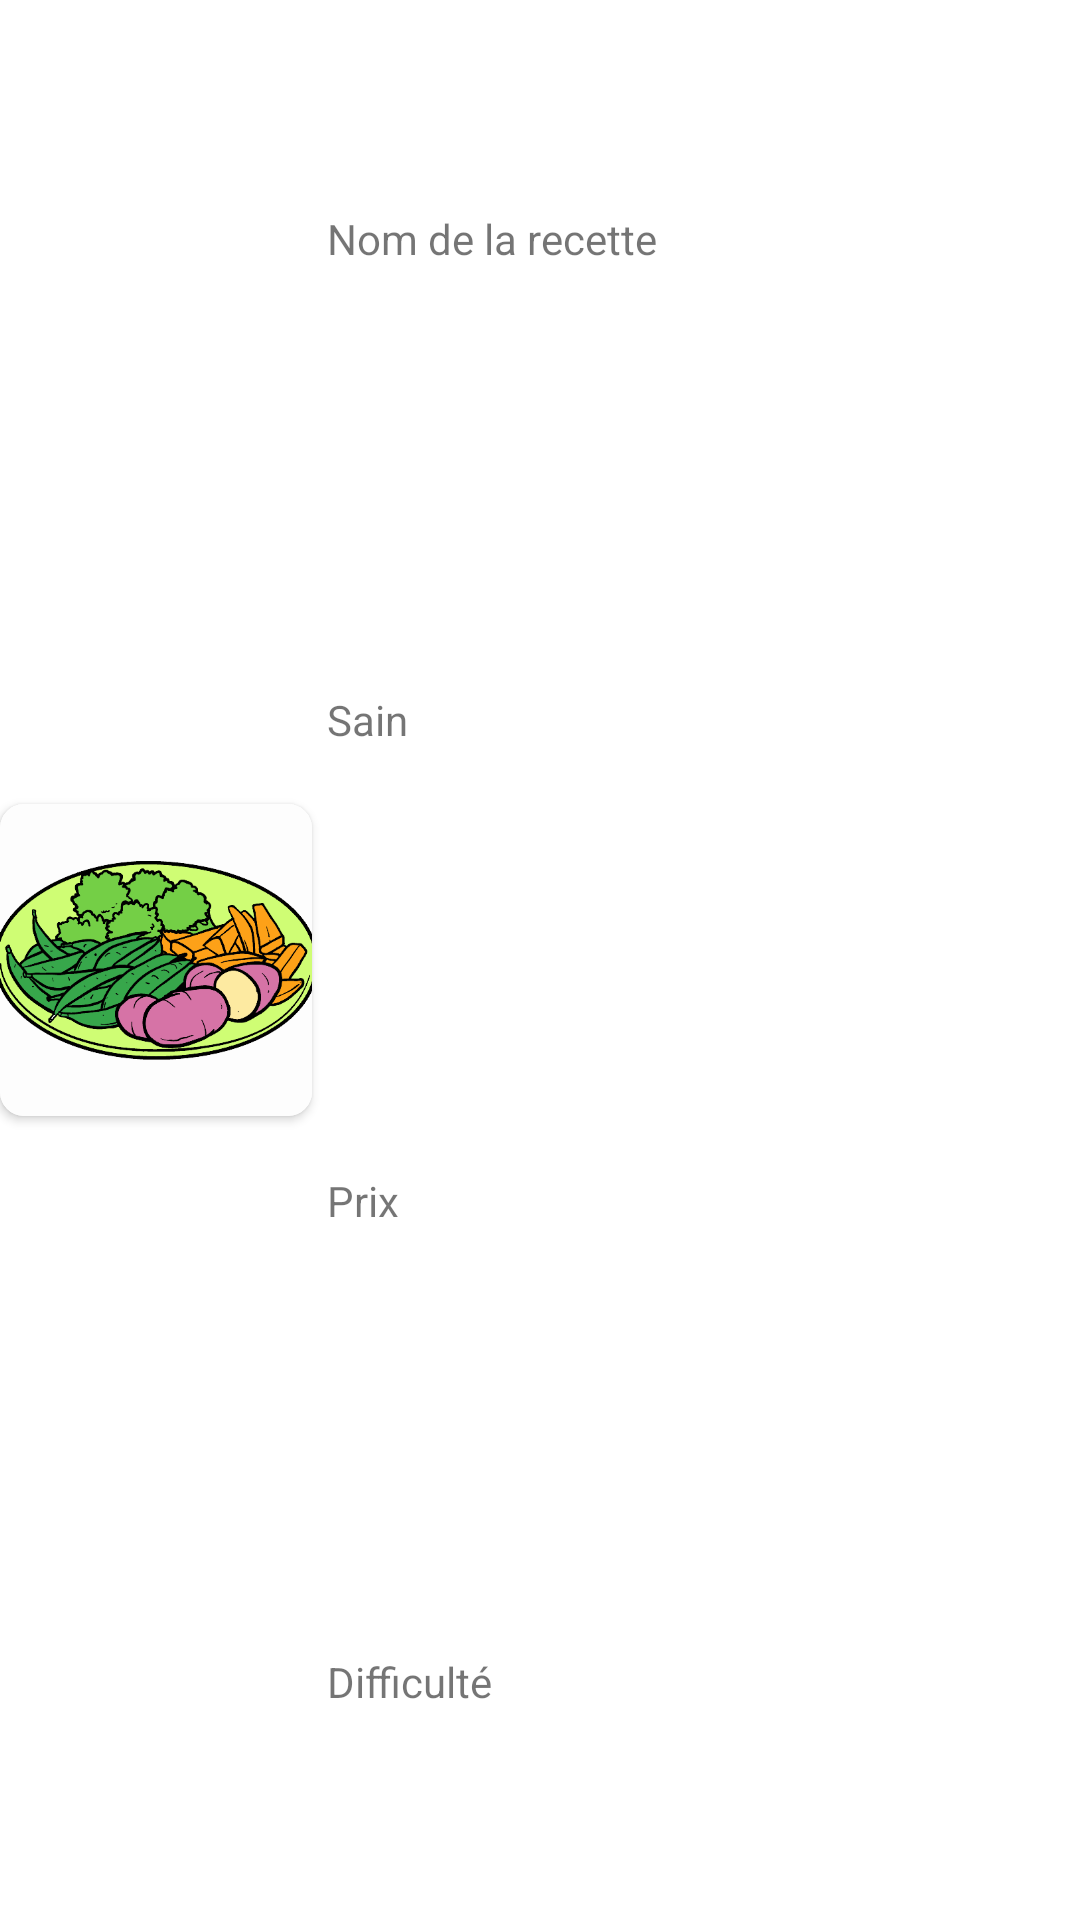

Icon click points for this 1080px x 1920px phone screenshot, format [x,y]:
plat: [156,988]
